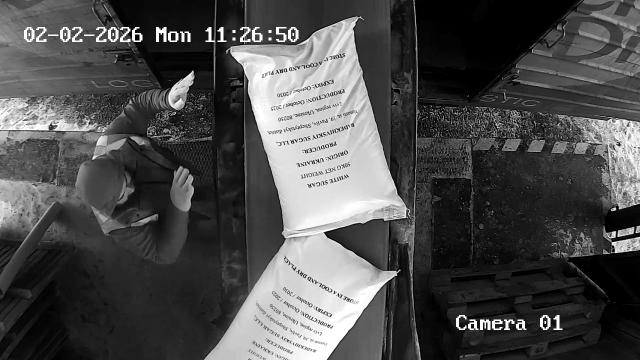bag: (230, 16, 406, 238), (205, 228, 398, 360)
